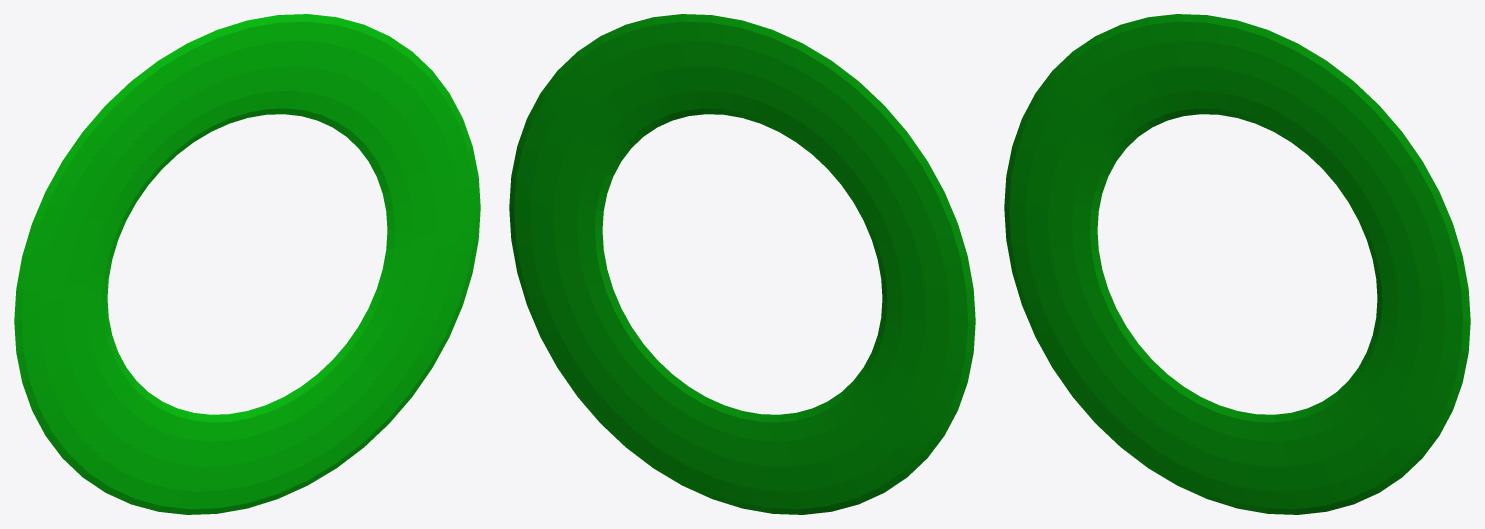
File: portal.obj
3 renders of one model, left to right at view 1: azimuth 30°, elevation 25°; view 2: azimuth 150°, elevation 25°; view 3: azimuth 330°, elevation 25°, orthographic.
Parts seen in each view (by area): view 1: Torus; view 2: Torus; view 3: Torus.
Boxes of the visible parts, x1,y1,x2,y2 form: Torus: [14, 14, 480, 514]; Torus: [509, 14, 975, 514]; Torus: [1004, 14, 1470, 514].
Size of the model in its own units: 2.5 by 2.5 by 0.05.
